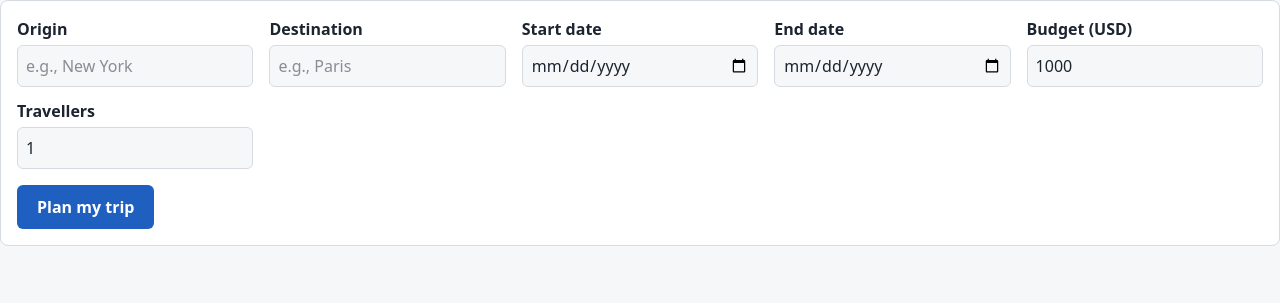
Test: TripForm › warns and does not send when Destination is empty
The image size is (1280, 303).
In the field labelled "Origin": [135, 66] box [17, 45, 253, 87], type "Manila"
In the field labelled "Destination": [388, 66] box [269, 45, 506, 87], type "Tokyo"
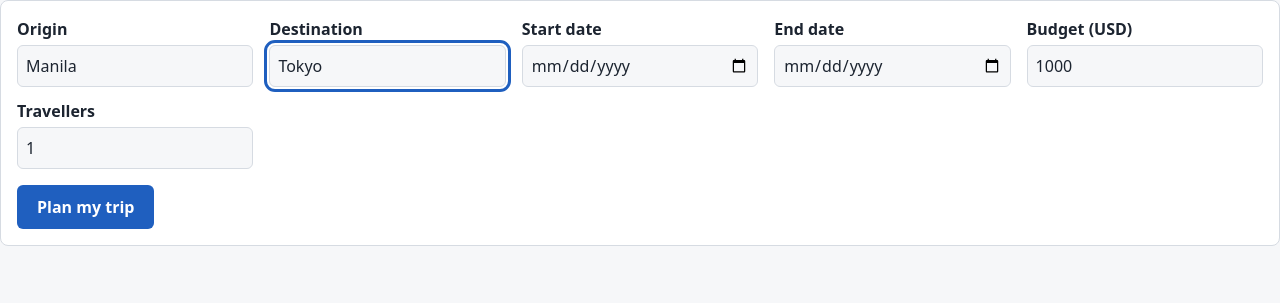
In the date field labelled "Start date": [640, 66] box [522, 45, 758, 87], type "2026-12-01"
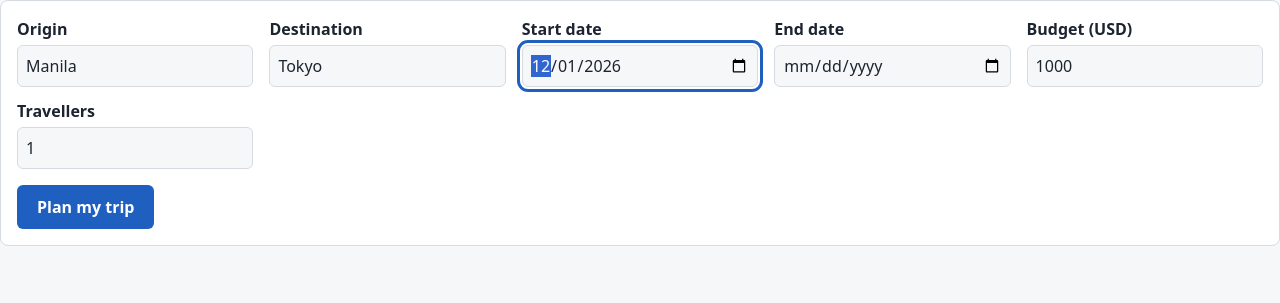
In the date field labelled "End date": [892, 66] box [774, 45, 1011, 87], type "2026-12-06"
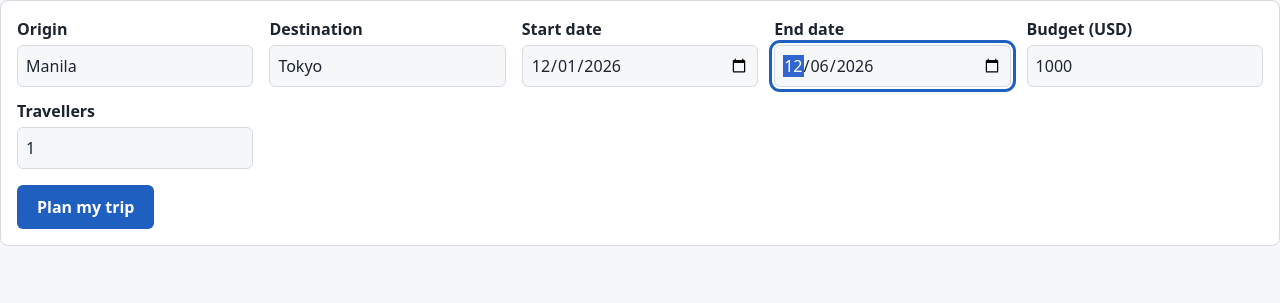
Replace the text in the number field labelled "Budget (USD)" with "1500": [1145, 66] box [1027, 45, 1263, 87]
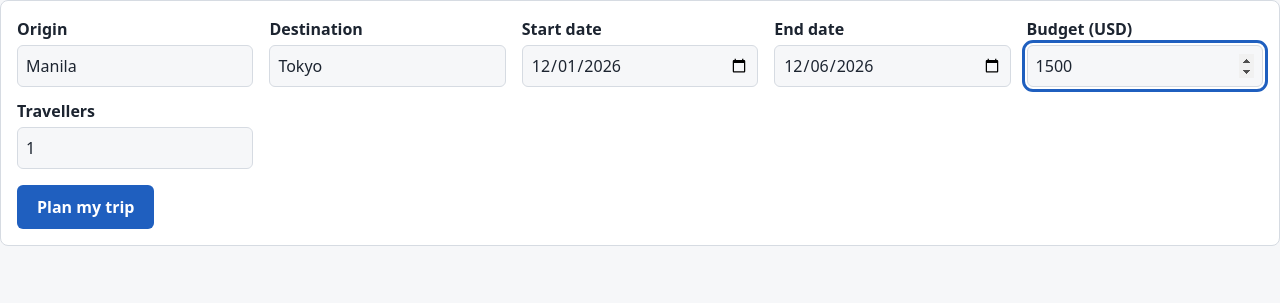
Clear the field labelled "Destination": [388, 66] box [269, 45, 506, 87]
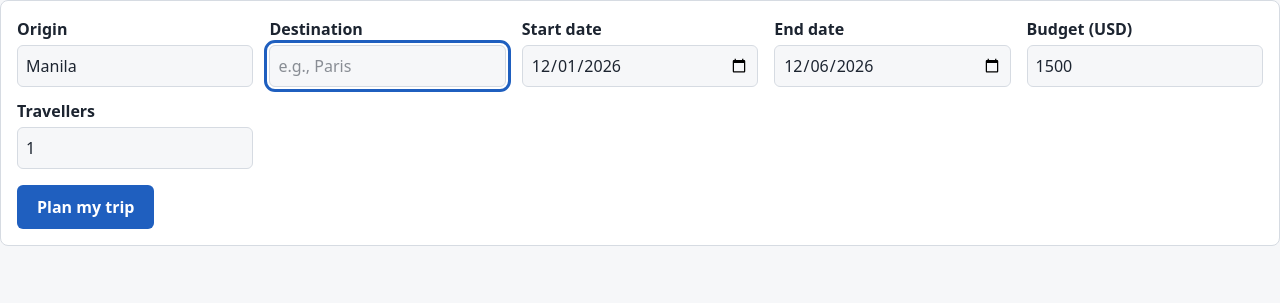
Click the button "Plan my trip": [86, 207] box [17, 185, 154, 229]
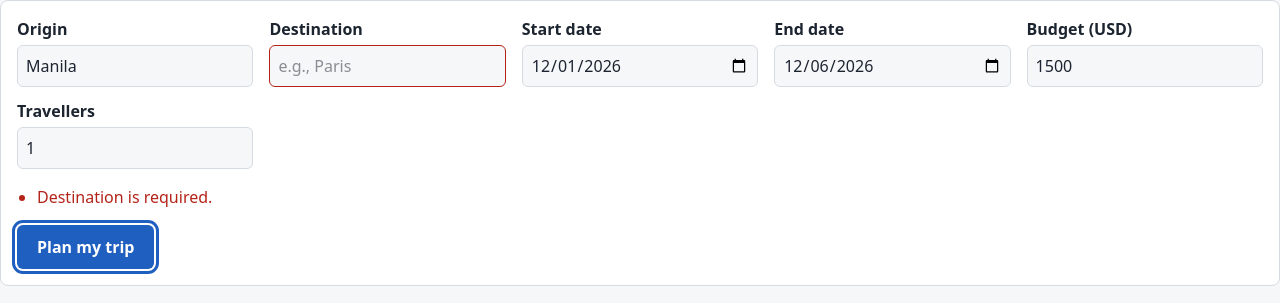
Now the message reads "Destination is required.", box [37, 186, 212, 208]
